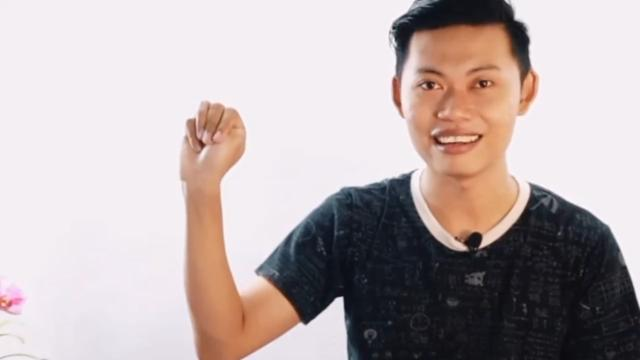M: (178, 98, 250, 182)
